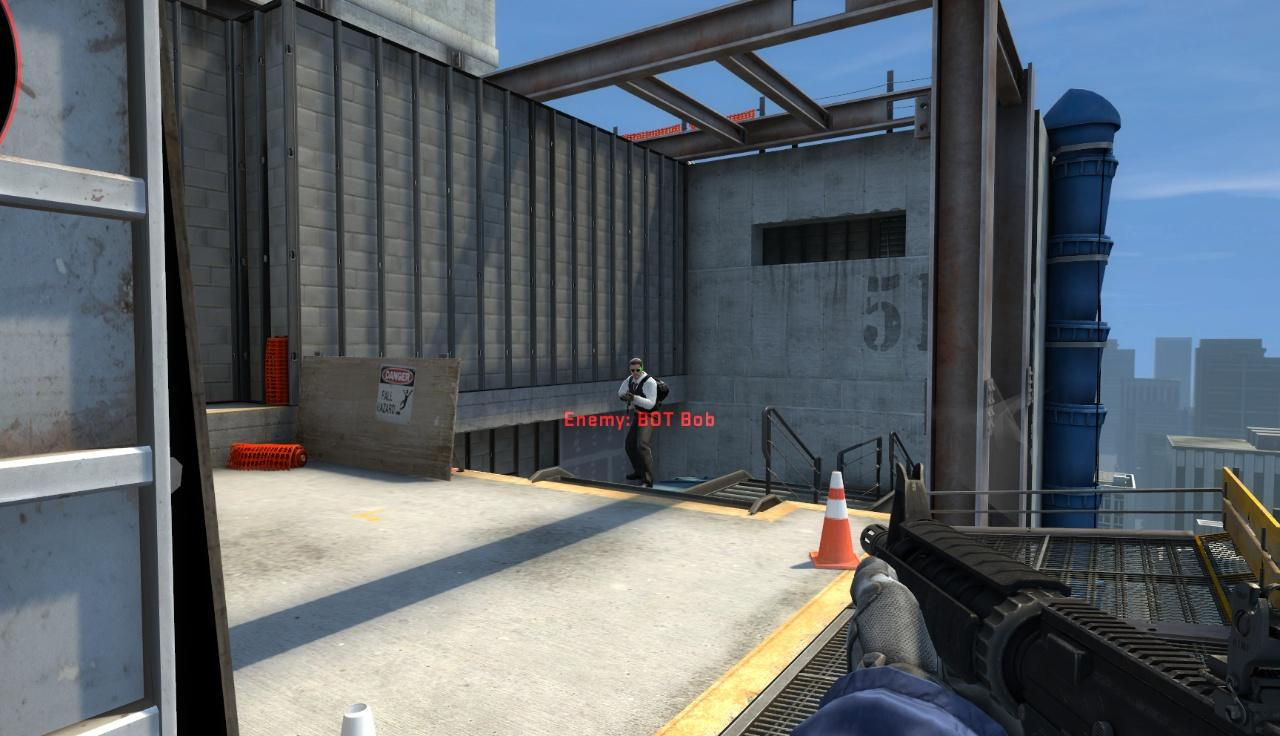rifle: (856, 461, 1280, 736)
tt: (621, 359, 659, 490)
tthead: (628, 360, 644, 379)
